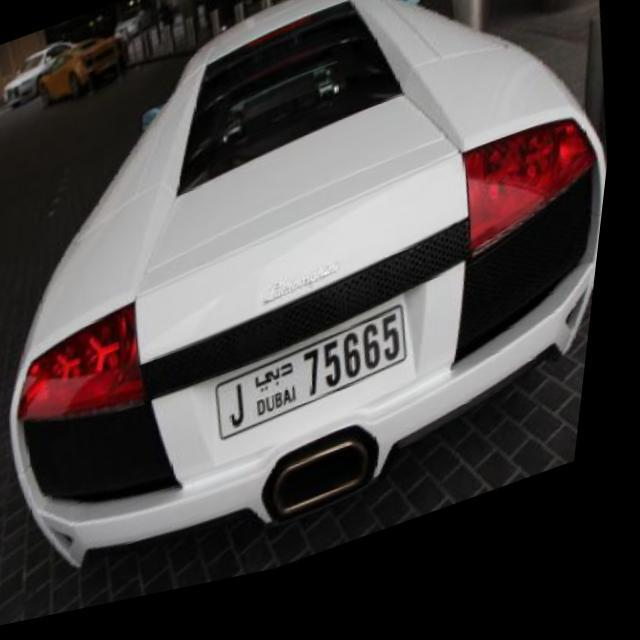license_plate: (220, 320, 426, 454)
